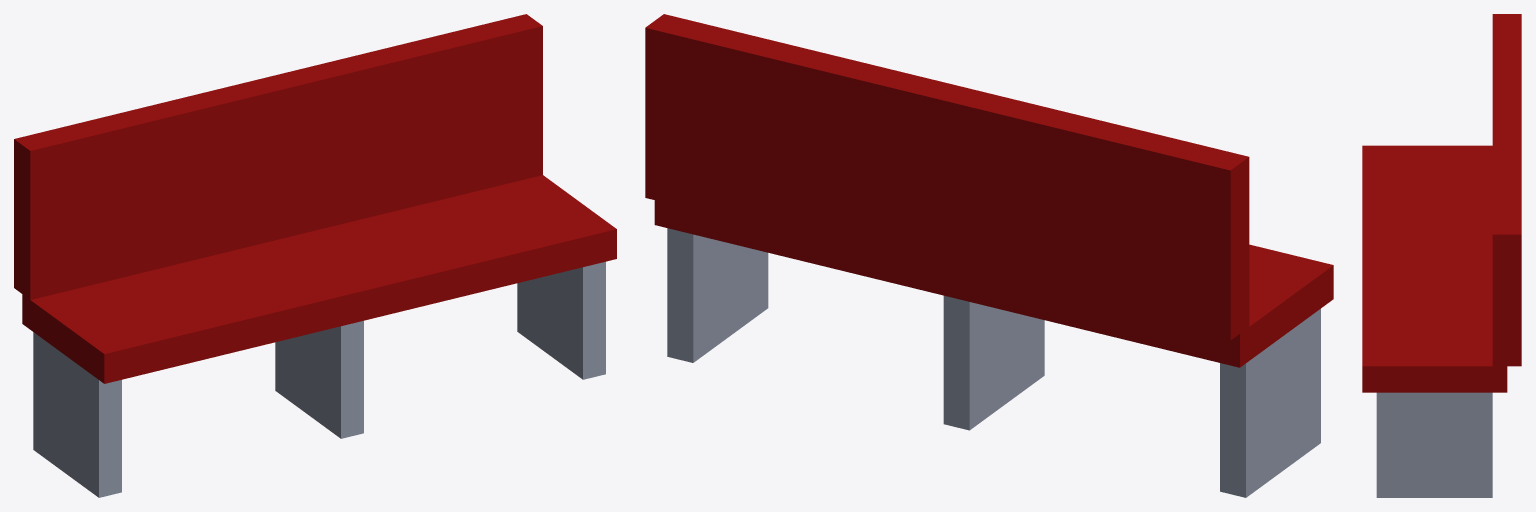
The model's file is lane_seating.obj.
3 views of the same model, side by side, from view 1: azimuth 30°, elevation 25°; view 2: azimuth 150°, elevation 25°; view 3: azimuth 270°, elevation 25° (orthographic). The views are drawn at different scales.
Parts seen in each view (by area): view 1: lane_seating; view 2: lane_seating; view 3: lane_seating.
Boxes of the visible parts, x1,y1,x2,y2 form: lane_seating: (14,14,616,497); lane_seating: (645,14,1333,497); lane_seating: (1362,14,1521,497).
Size of the model in its own units: 1.8 by 1 by 0.55.
